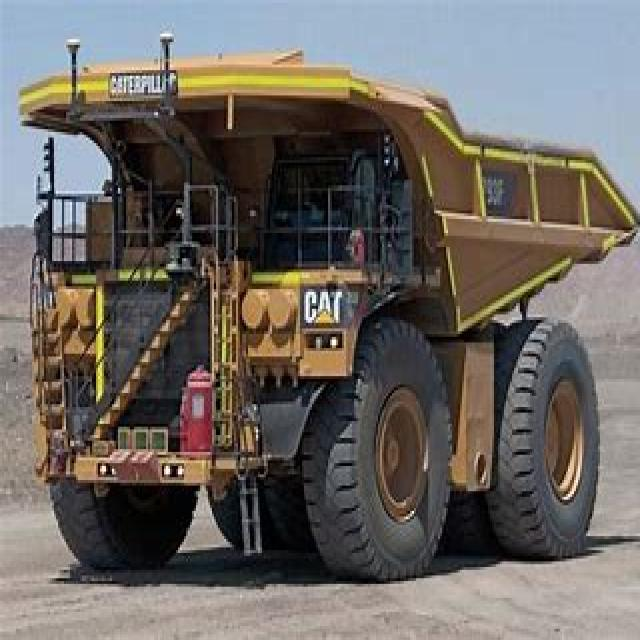dump_truck: (12, 48, 612, 558)
